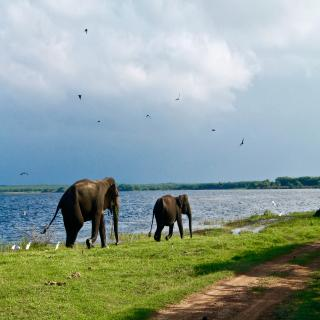Elephant: (39, 175, 122, 248), (147, 192, 196, 241)
